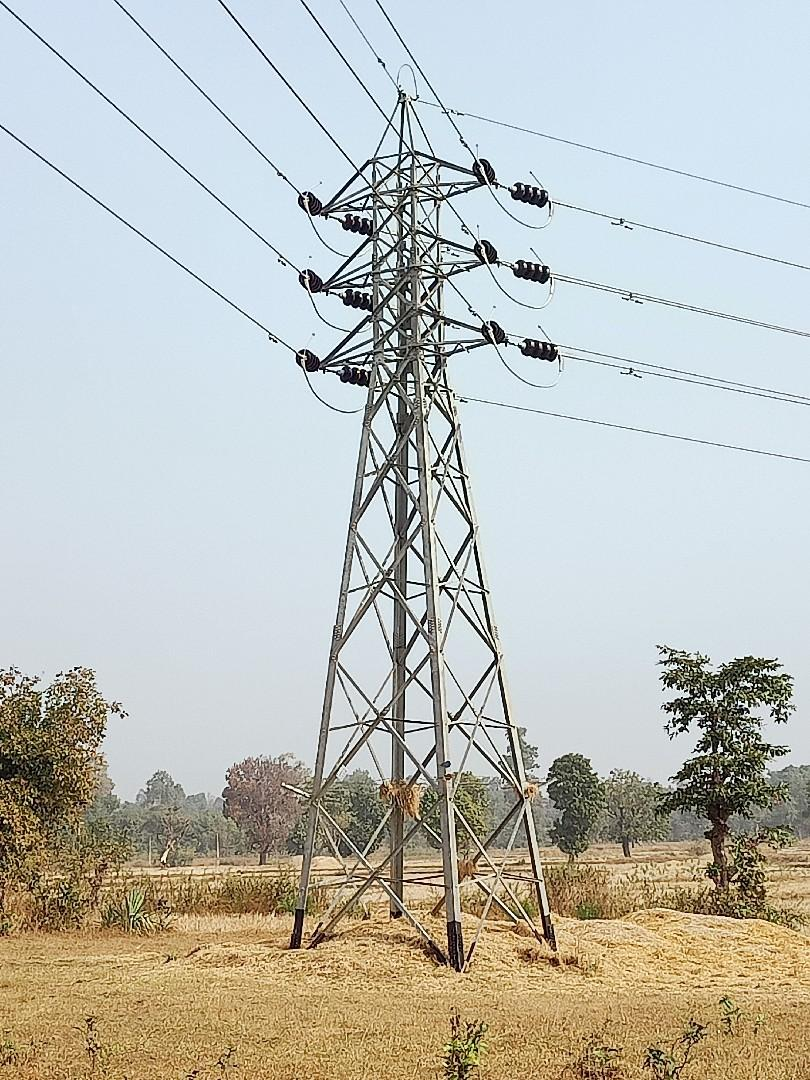GSM Antenna: (273, 87, 563, 930)
